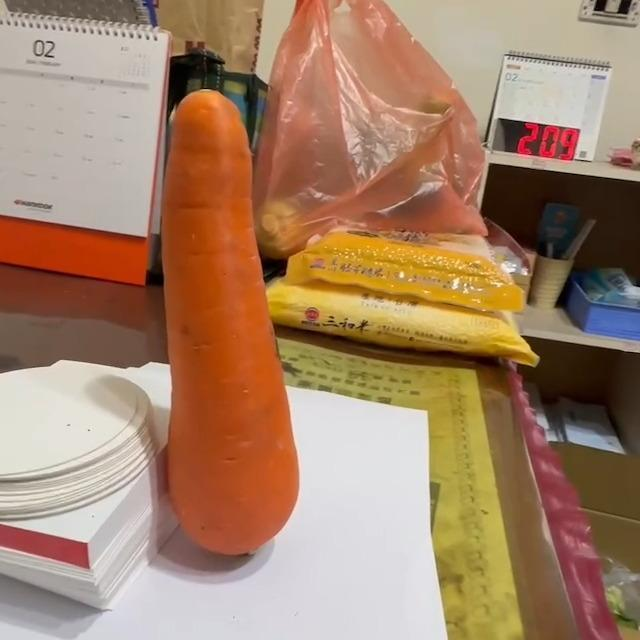carrot: (162, 90, 299, 554)
